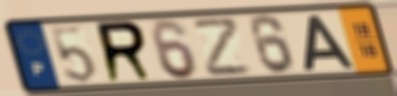5: (48, 24, 99, 84)
6: (149, 17, 199, 82), (248, 12, 296, 77)
A: (302, 13, 357, 72)
R: (94, 19, 157, 85)
Z: (190, 15, 255, 79)
